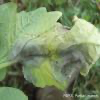Potato leaf late blight: (0, 2, 99, 91)
